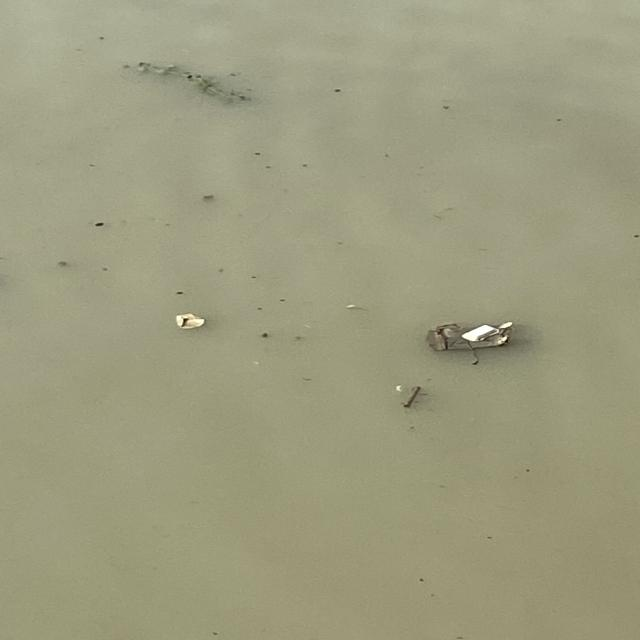Foamed Plastic: (461, 323, 501, 343)
Organic Debris: (122, 57, 262, 110), (424, 321, 513, 353), (402, 385, 423, 409), (250, 148, 266, 158), (209, 629, 222, 639), (92, 220, 107, 228), (331, 86, 344, 95), (200, 193, 214, 201), (259, 330, 271, 339), (440, 103, 452, 112), (175, 288, 186, 297), (54, 260, 70, 266), (301, 375, 313, 382), (278, 296, 288, 304), (408, 424, 418, 431), (418, 392, 429, 398), (300, 163, 311, 169), (555, 118, 566, 124), (255, 306, 265, 312), (484, 535, 496, 540), (382, 152, 390, 159), (417, 576, 426, 582), (102, 266, 110, 272), (88, 162, 96, 168), (429, 593, 437, 599), (250, 275, 259, 280), (524, 468, 533, 473), (218, 267, 225, 273), (414, 400, 421, 405), (265, 165, 273, 169), (98, 36, 105, 40)
Paper and Cardboard: (172, 312, 209, 331)
Plastic: (343, 302, 358, 310)
